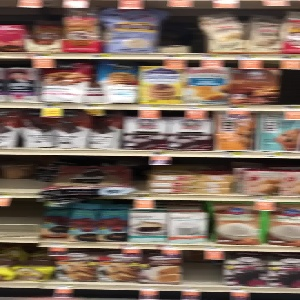void: (158, 12, 207, 55), (1, 155, 50, 195), (181, 248, 224, 288), (1, 197, 41, 236)
